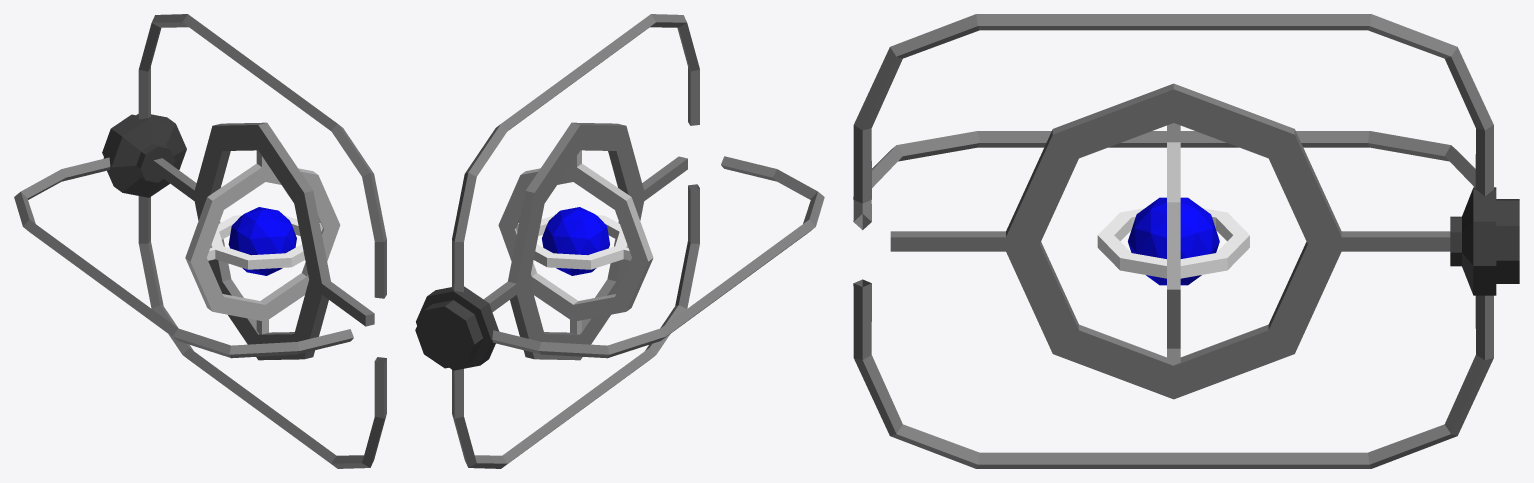
Rendered from CD_Engine_v2.glb.
The picture shows the model from 3 angles, left to right: view 1: azimuth 30°, elevation 25°; view 2: azimuth 150°, elevation 25°; view 3: azimuth 270°, elevation 25°; orthographic projection. The views are drawn at different scales.
Parts seen in each view (by area): view 1: Outer, Middle, Bar.001, Bar, Bar.002, Pivots, Core, Inner; view 2: Outer, Middle, Bar, Bar.001, Bar.002, Pivots, Core, Inner; view 3: Outer, Bar.001, Bar.002, Bar, Pivots, Inner, Core, Middle.
Boxes of the visible parts, x1,y1,x2,y2 form: Outer: (153, 122, 374, 360); Middle: (185, 150, 340, 334); Bar.001: (138, 14, 386, 298); Bar: (14, 157, 353, 358); Bar.002: (138, 196, 386, 468); Pivots: (102, 114, 186, 197); Core: (228, 207, 296, 275); Inner: (207, 215, 322, 269); Outer: (483, 122, 687, 360); Middle: (498, 150, 653, 334); Bar: (492, 156, 824, 358); Bar.001: (452, 14, 699, 292); Bar.002: (452, 184, 699, 468); Pivots: (415, 286, 499, 370); Core: (542, 207, 609, 275); Inner: (516, 215, 631, 269); Outer: (890, 83, 1450, 399); Bar.001: (853, 14, 1493, 203); Bar.002: (853, 279, 1493, 468); Bar: (853, 131, 1475, 230); Pivots: (1450, 187, 1519, 295); Inner: (1097, 208, 1249, 278); Core: (1128, 197, 1219, 285); Middle: (1167, 123, 1180, 364).
Bounding box in the file's own units: 15.84 × 21.78 × 28.9.
